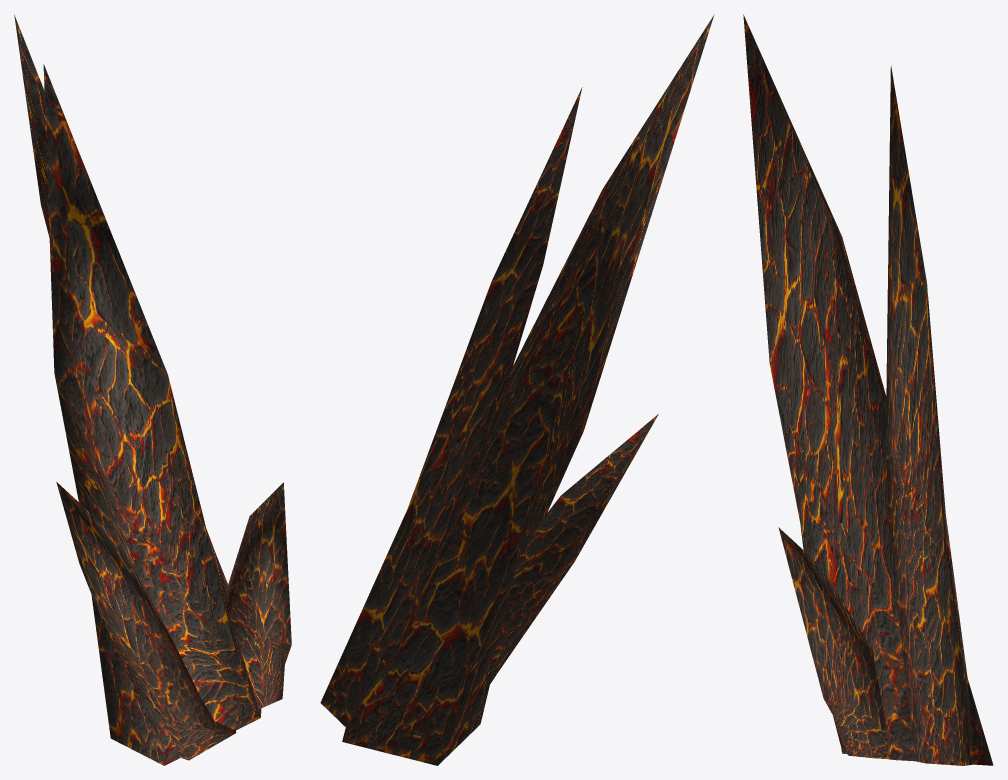
File: jiaoci #037031.fbx
3 views of the same model, side by side, from view 1: azimuth 30°, elevation 25°; view 2: azimuth 150°, elevation 25°; view 3: azimuth 270°, elevation 25° (orthographic). The views are drawn at different scales.
Parts seen in each view (by area): view 1: jiaoci; view 2: jiaoci; view 3: jiaoci.
Part boxes in pixels (x1,y1,x2,y2): jiaoci: (14, 15, 291, 765); jiaoci: (320, 14, 714, 765); jiaoci: (743, 14, 993, 765).
Bounding box in the file's own units: 1.56 × 3.73 × 1.27.
Materials: 1 (1 with a texture image).
